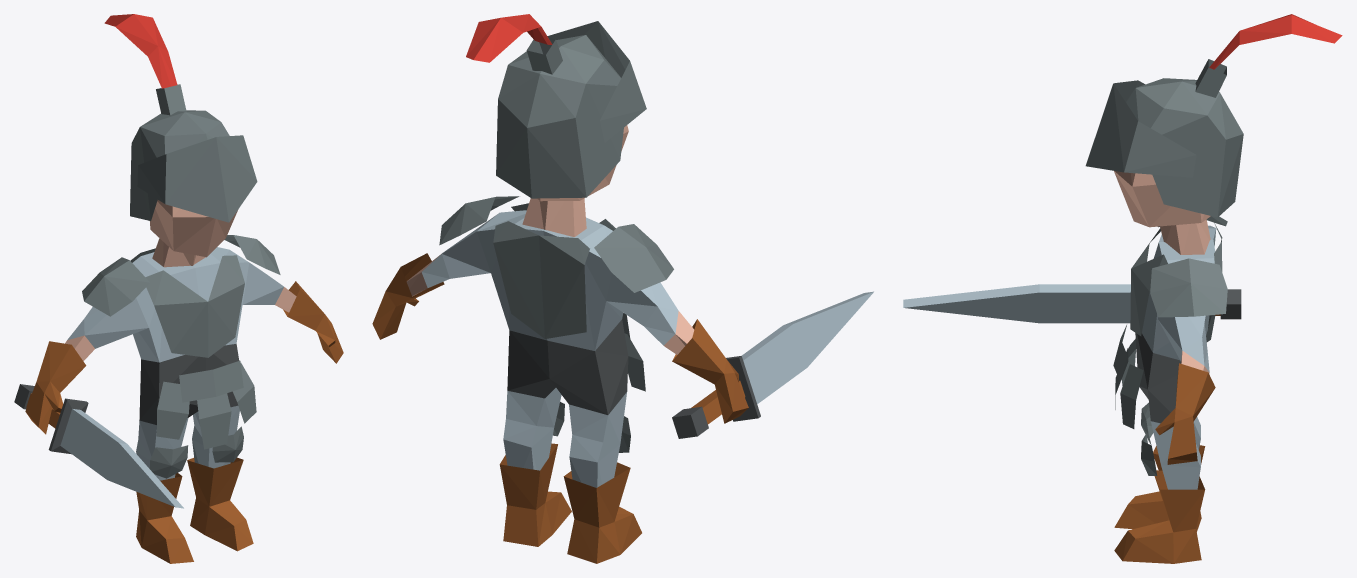
The model's file is Unsgbl_Ricar_Animetion.fbx.
3 renders of one model, left to right at view 1: azimuth 30°, elevation 25°; view 2: azimuth 150°, elevation 25°; view 3: azimuth 270°, elevation 25°, orthographic. The views are drawn at different scales.
Parts seen in each view (by area): view 1: Куб, Плоскость.003, Куб.001, Плоскость.002, Плоскость.001, Плоскость; view 2: Куб, Плоскость.004, Куб.001, Плоскость.002; view 3: Куб, Куб.001, Плоскость.003, Плоскость.002.
Boxes of the visible parts, bbox=[...] form: Куб: bbox=[14, 110, 343, 563]; Плоскость.003: bbox=[145, 255, 244, 357]; Куб.001: bbox=[104, 14, 186, 115]; Плоскость.002: bbox=[156, 363, 256, 439]; Плоскость.001: bbox=[179, 360, 243, 402]; Плоскость: bbox=[197, 393, 231, 449]; Куб: bbox=[372, 21, 873, 563]; Плоскость.004: bbox=[493, 221, 589, 338]; Куб.001: bbox=[466, 14, 562, 74]; Плоскость.002: bbox=[624, 333, 645, 391]; Куб: bbox=[903, 78, 1243, 563]; Куб.001: bbox=[1195, 14, 1342, 97]; Плоскость.003: bbox=[1130, 228, 1167, 336]; Плоскость.002: bbox=[1120, 339, 1143, 428].
Bounding box in the file's own units: 1847 × 2790 × 2119.
